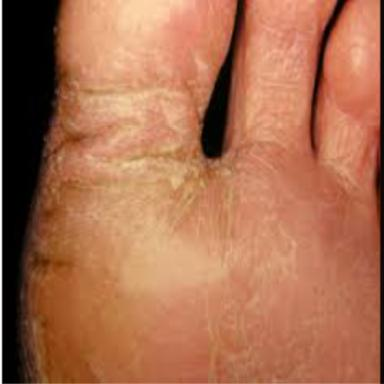eczema: (23, 1, 379, 382)
